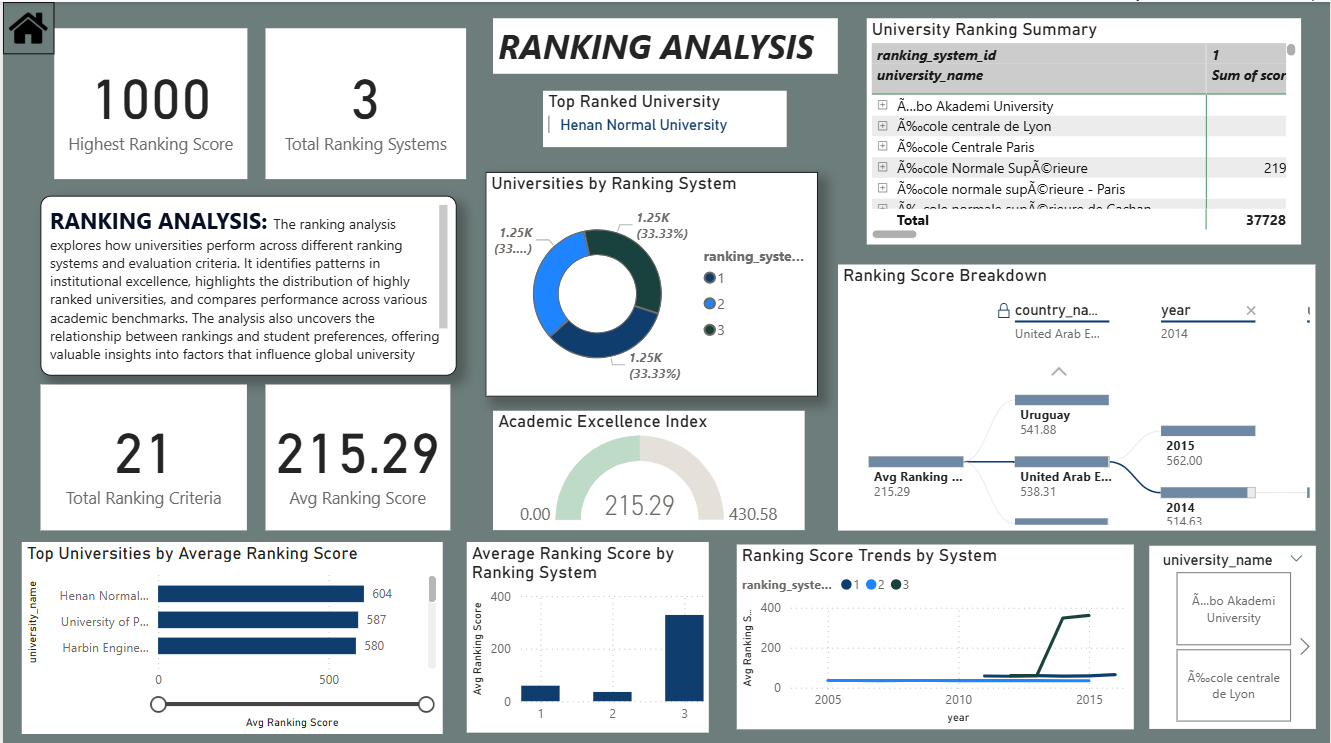

The dashboard page shown, as its layout file describes it:
{"tool":"powerbi","page":{"name":"Ranking Analysis","canvas":[1280,720],"ordinal":3},"visuals":[{"type":"textbox","box":[35.6,186.7,402,173.9],"z":0},{"type":"textbox","box":[473.2,15.9,332.6,53.8],"z":1000},{"type":"card","fields":{"Values":["Table.Highest Ranking Score"]},"box":[49.9,25.7,186.7,145.4],"z":2000},{"type":"card","fields":{"Values":["Table.Total Ranking Systems"]},"box":[253.7,25.7,193.9,145.4],"z":3000},{"type":"card","fields":{"Values":["Table.Total Ranking Criteria"]},"box":[35.6,369.2,199.6,141.1],"z":4000},{"type":"card","fields":{"Values":["Table.Avg Ranking Score"]},"box":[253.7,369.2,178.2,141.1],"z":5000},{"type":"multiRowCard","title":"Top Ranked University","fields":{"Values":["Table.Top Ranked University"]},"box":[521.7,85.5,235.2,54.2],"z":6000},{"type":"barChart","title":"Top Universities by Average Ranking Score","fields":{"Category":["university.university_name"],"Y":["Table.Avg Ranking Score"]},"box":[18.1,521.2,405.4,184.6],"z":7000},{"type":"clusteredColumnChart","title":"Average Ranking Score by Ranking System","fields":{"Category":["ranking_criteria.ranking_system_id"],"Y":["Table.Avg Ranking Score"]},"box":[447.6,521.7,233.8,183.9],"z":8000},{"type":"donutChart","title":"Universities by Ranking System","fields":{"Category":["ranking_criteria.ranking_system_id"],"Y":["CountNonNull(university.university_name)"]},"box":[466.1,163.9,320.7,216.7],"z":9000},{"type":"lineChart","title":"Ranking Score Trends by System","fields":{"Category":["university_ranking_year.year"],"Y":["Table.Avg Ranking Score"],"Series":["ranking_criteria.ranking_system_id"]},"box":[708.4,523.1,383.4,178.2],"z":10000},{"type":"decompositionTreeVisual","title":"Ranking Score Breakdown","fields":{"Analyze":["Table.Avg Ranking Score"],"ExplainBy":["country.country_name","university_ranking_year.year","university.university_name"]},"box":[805.3,253.7,460.4,256.6],"z":11000},{"type":"pivotTable","title":"University Ranking Summary","fields":{"Rows":["university.university_name","country.country_name"],"Columns":["ranking_criteria.ranking_system_id"],"Values":["Sum(university_ranking_year.score)","Sum(university_ranking_year.year)"]},"box":[833.9,15.7,419.1,218.1],"z":12000},{"type":"slicer","fields":{"Values":["university.university_name"]},"box":[1106.1,524.5,161.1,176.7],"z":13000},{"type":"gauge","title":"Academic Excellence Index ","fields":{"Y":["Table.Avg Ranking Score"]},"box":[473.2,394.8,300.8,115.5],"z":14000},{"type":"image","box":[0,0,49.5,50.7],"z":15000}]}

Visuals, with their boxes in screenshot pixels (x1, y1, x2, y2), scaled from the page's 1280x720 canvas onto the 1331x743 screenshot:
textbox: pyautogui.locateOnScreen(37, 193, 455, 372)
textbox: pyautogui.locateOnScreen(492, 16, 838, 72)
card - Table.Highest Ranking Score: pyautogui.locateOnScreen(52, 27, 246, 177)
card - Table.Total Ranking Systems: pyautogui.locateOnScreen(264, 27, 465, 177)
card - Table.Total Ranking Criteria: pyautogui.locateOnScreen(37, 381, 245, 527)
card - Table.Avg Ranking Score: pyautogui.locateOnScreen(264, 381, 449, 527)
"Top Ranked University" multiRowCard: pyautogui.locateOnScreen(542, 88, 787, 144)
"Top Universities by Average Ranking Score" barChart: pyautogui.locateOnScreen(19, 538, 440, 728)
"Average Ranking Score by Ranking System" clusteredColumnChart: pyautogui.locateOnScreen(465, 538, 709, 728)
"Universities by Ranking System" donutChart: pyautogui.locateOnScreen(485, 169, 818, 393)
"Ranking Score Trends by System" lineChart: pyautogui.locateOnScreen(737, 540, 1135, 724)
"Ranking Score Breakdown" decompositionTreeVisual: pyautogui.locateOnScreen(837, 262, 1316, 527)
"University Ranking Summary" pivotTable: pyautogui.locateOnScreen(867, 16, 1303, 241)
slicer - university.university_name: pyautogui.locateOnScreen(1150, 541, 1318, 724)
"Academic Excellence Index " gauge: pyautogui.locateOnScreen(492, 407, 805, 527)
image: pyautogui.locateOnScreen(0, 0, 51, 52)
